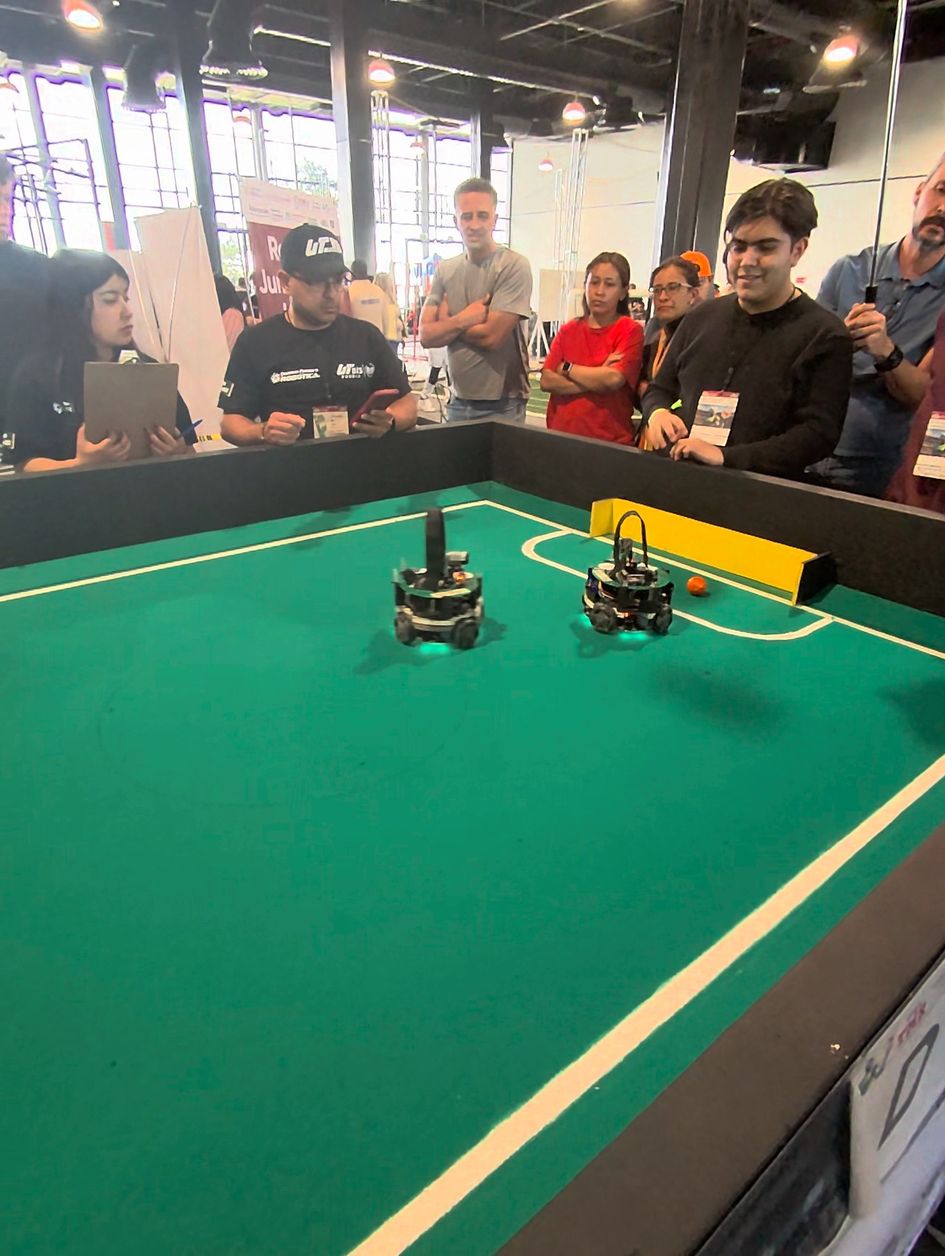Robot: (386, 496, 486, 654), (582, 498, 677, 642)
pelota: (686, 573, 707, 594)
